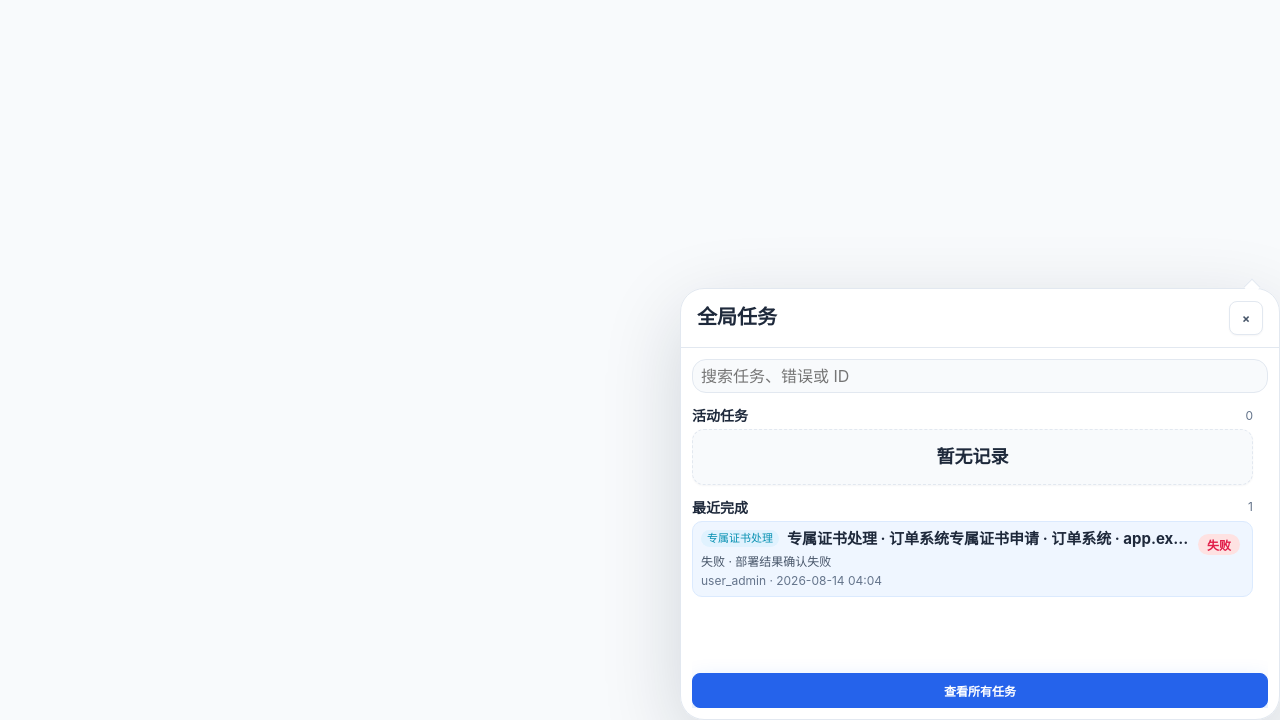
Test case: TaskDrawer ACME 任务展示 › 专属证书父任务使用流程协调文案，不与签发任务重复
This screenshot has width=1280, height=720.
(page scrolled)
Check: the text with class "task-drawer__item-type" reads "专属证书处理", box [707,531,773,545]
Check: the text with class "task-drawer__item-title" shows "专属证书处理", box [787,529,1255,548]
Click the button with class "task-drawer__item-open".
click(740, 539)  # box [693,522,1190,596]
(page scrolled)
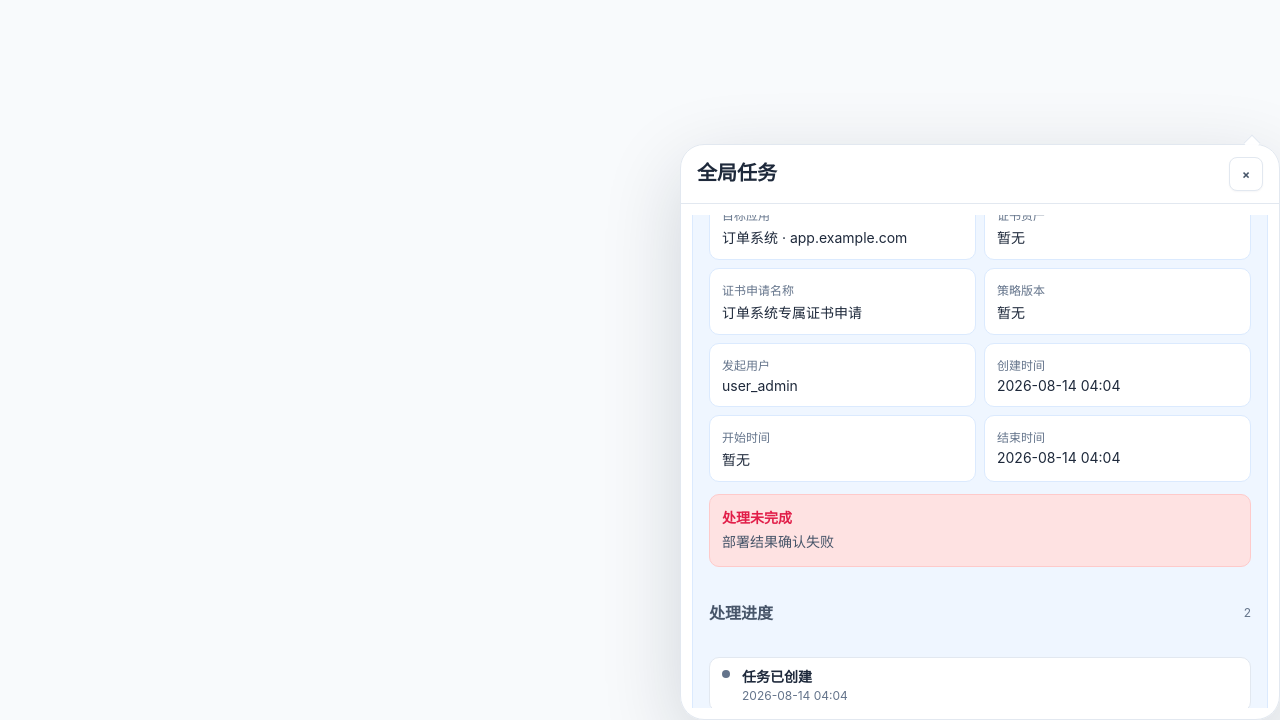
Check: the element with class "task-drawer__dedicated-detail" shows "部署结果确认失败", box [722,533,834,550]
